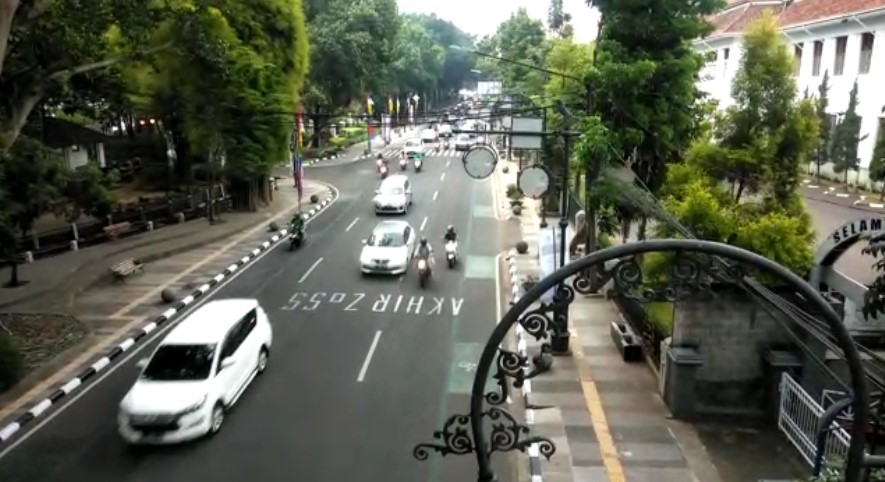mobil: (104, 296, 278, 446), (355, 219, 416, 283), (371, 176, 413, 215)
motor: (440, 225, 463, 269), (415, 239, 433, 291), (284, 213, 309, 249)
